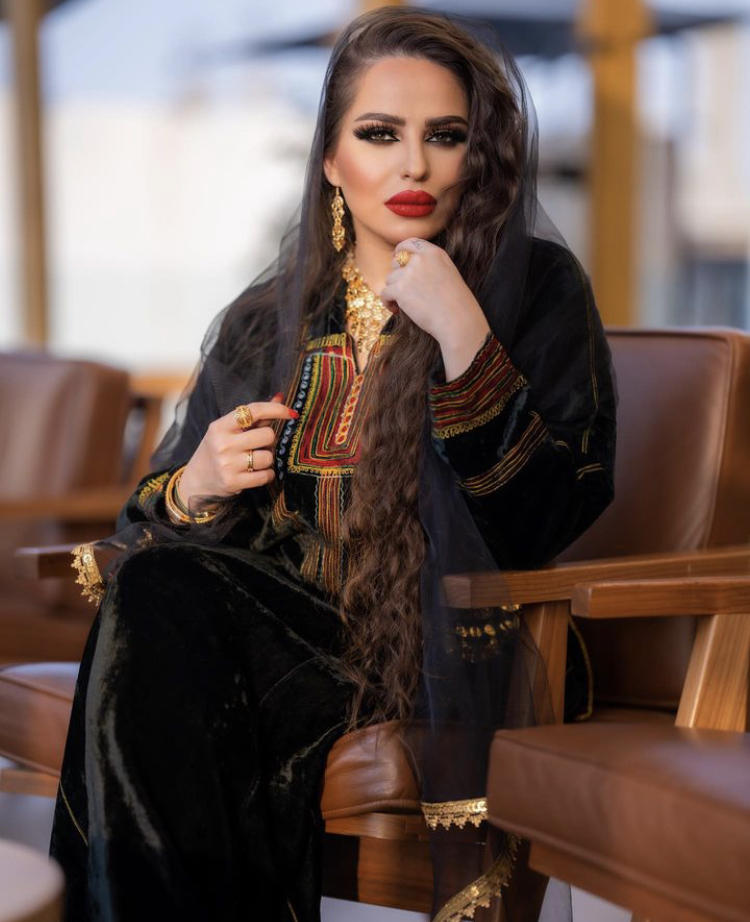Saudi_Founding_Day: (46, 2, 621, 922)
